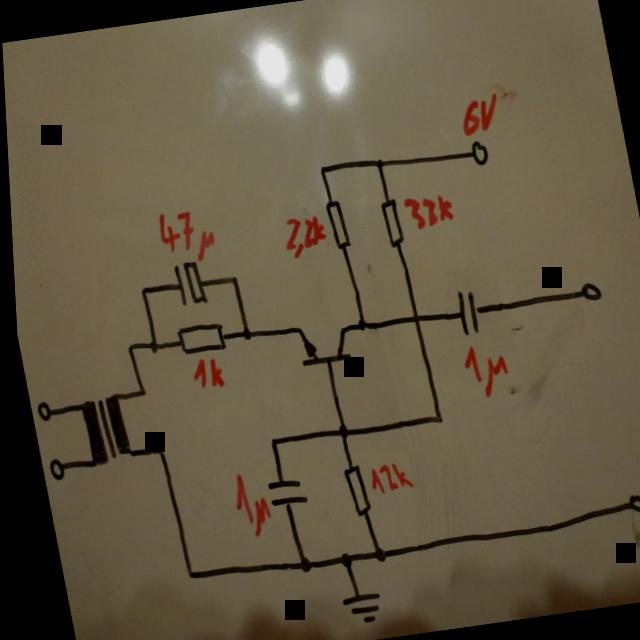capacitor: (159, 252, 211, 312), (254, 464, 306, 518), (441, 282, 486, 340)
crossover: (401, 306, 423, 328)
ground: (329, 582, 379, 631)
junction: (284, 548, 308, 576), (326, 546, 351, 571), (360, 541, 383, 567), (346, 310, 368, 336), (138, 332, 160, 358), (231, 321, 253, 346), (328, 418, 347, 442), (422, 406, 442, 428), (366, 150, 386, 172), (145, 438, 163, 462), (220, 266, 239, 288), (311, 158, 330, 178), (173, 563, 191, 584), (128, 380, 145, 400), (117, 338, 134, 357), (131, 278, 147, 298), (260, 431, 275, 451)
resistor: (163, 312, 230, 360), (316, 190, 355, 255), (330, 456, 370, 519), (369, 190, 407, 252)
terminal: (572, 274, 602, 307), (463, 134, 490, 170), (616, 487, 640, 518), (38, 452, 62, 481), (26, 398, 49, 422)
text: (148, 200, 218, 266), (216, 464, 270, 538), (451, 336, 510, 401), (271, 207, 327, 261), (398, 186, 454, 234), (452, 90, 504, 140), (179, 352, 226, 395), (360, 456, 409, 496)
transformer: (67, 387, 135, 472)
transistor: (284, 312, 355, 382)
